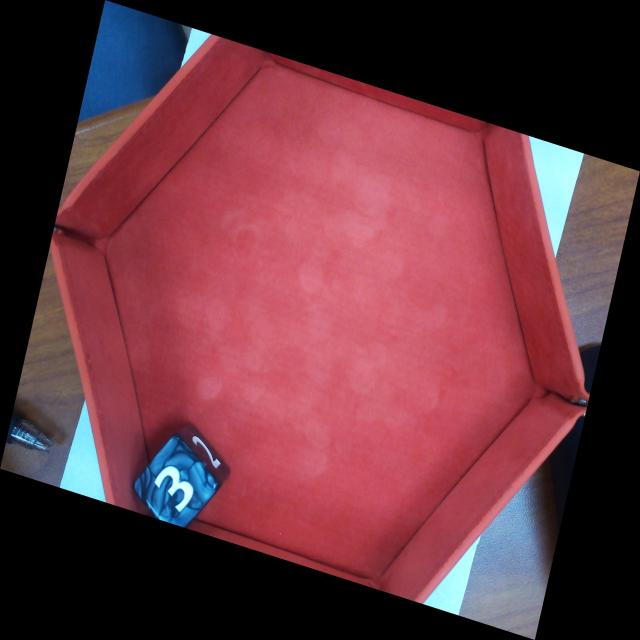dice: (135, 439, 218, 526)
